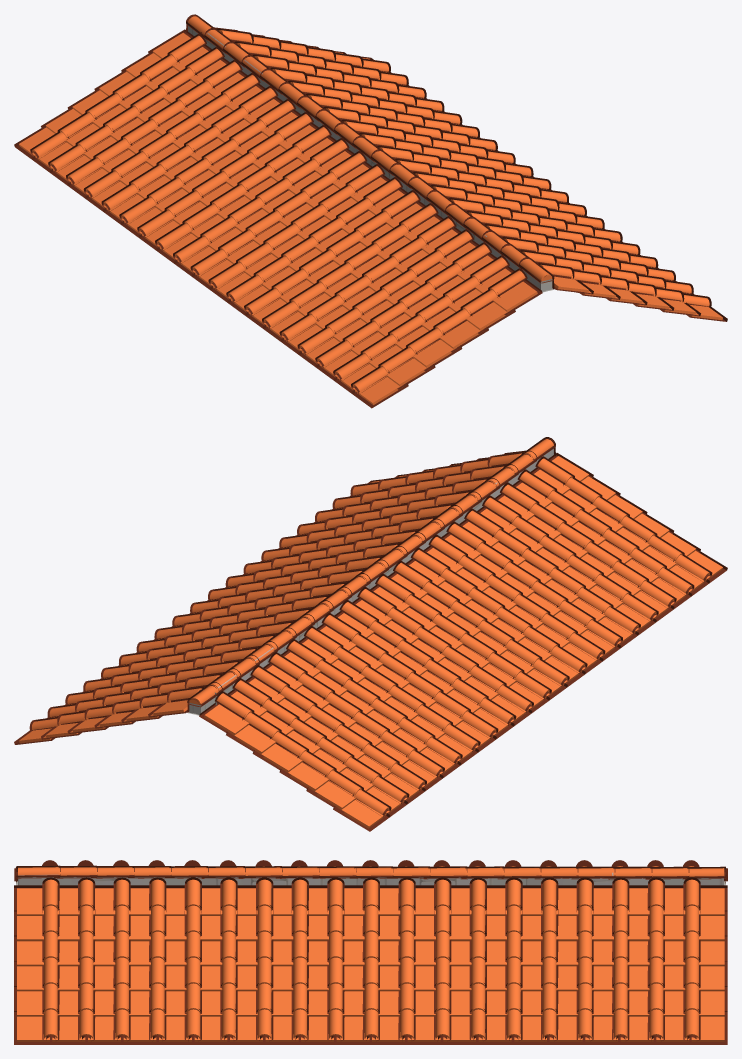
The model's file is Mausolée_Toit_Seclin.glb.
3 renders of one model, top to bottom at view 1: azimuth 30°, elevation 25°; view 2: azimuth 150°, elevation 25°; view 3: azimuth 270°, elevation 25°, orthographic.
Parts seen in each view (by area): view 1: Toit; view 2: Toit; view 3: Toit.
Boxes of the visible parts, x1,y1,x2,y2 form: Toit: [14, 14, 727, 408]; Toit: [14, 437, 727, 831]; Toit: [14, 860, 727, 1044].
Bounding box in the file's own units: 3.29 × 0.8058 × 5.71.
1 material, 1 textured.
